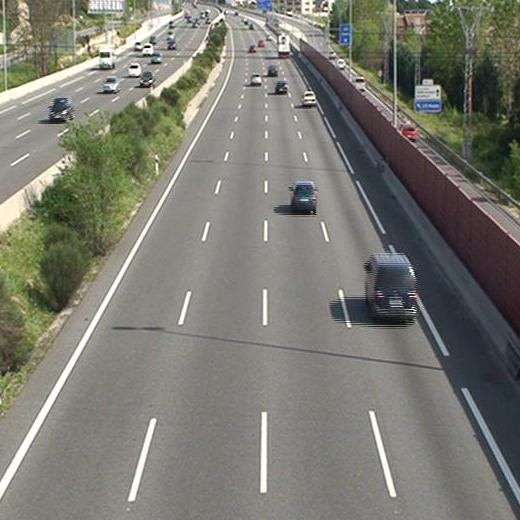car: (364, 254, 419, 321), (288, 179, 317, 212), (300, 90, 315, 107), (274, 81, 289, 93), (250, 72, 262, 84), (266, 65, 278, 75)
small-truck: (279, 35, 291, 60)
